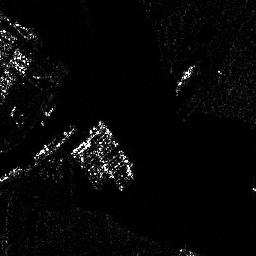ship: (32, 125, 75, 159)
